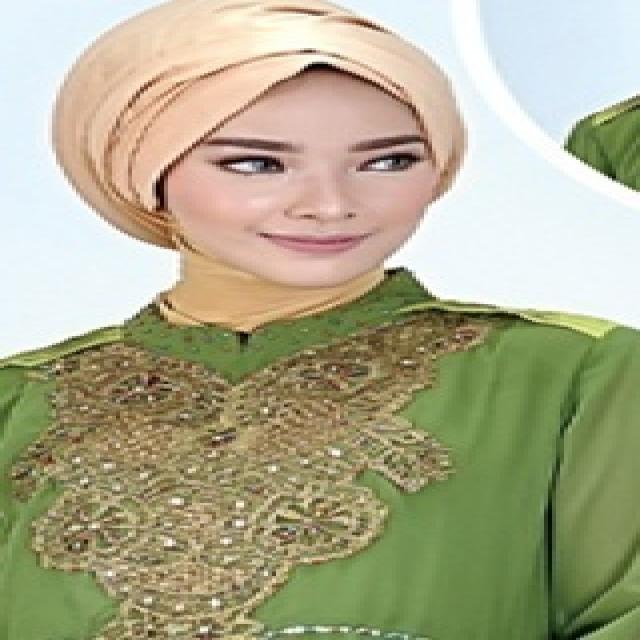head: (119, 27, 480, 295)
